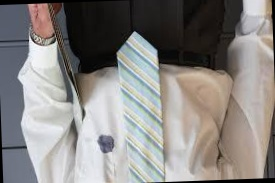ink: (98, 137, 114, 153)
